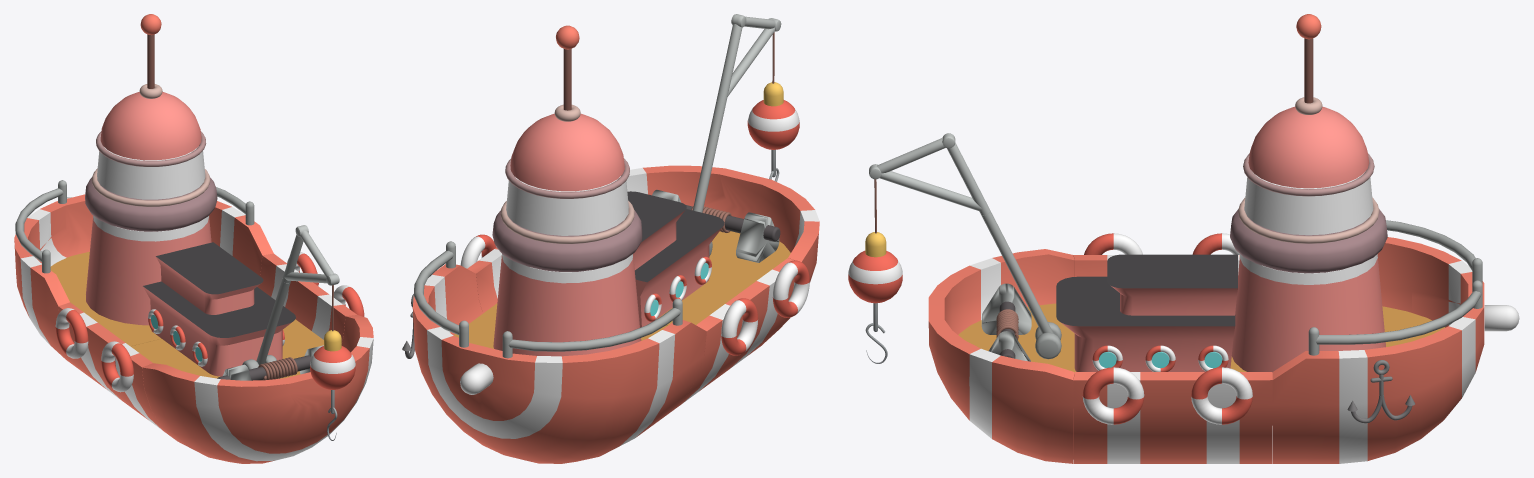
The model's file is Level_P_17.fbx.
3 views of the same model, side by side, from view 1: azimuth 30°, elevation 25°; view 2: azimuth 150°, elevation 25°; view 3: azimuth 270°, elevation 25° (orthographic). The views are drawn at different scales.
Visible parts, largest first — view 1: Cube_17.010, Cube_17.011, Cube_17.023, Cube_17.013, Cube_17.009, Cube_17.015, Cube_17.022, Cube_17.014, Cube_17.024, Cube_17.003, Cube_17.004, Cube_17.008 (+9 smaller); view 2: Cube_17.011, Cube_17.023, Cube_17.010, Cube_17.015, Cube_17.022, Cube_17.009, Cube_17.024, Cube_17.013, Cube_17.004, Cube_17.008, Cube_17.014, Cube_17.002 (+10 smaller); view 3: Cube_17.011, Cube_17.010, Cube_17.009, Cube_17.023, Cube_17.013, Cube_17.015, Cube_17.014, Cube_17.022, Cube_17.024, Cube_17.008, Cube_17.001, Cube_17.002 (+12 smaller).
Part boxes in pixels (box(x1,y1,x2,y2)): Cube_17.010: box(142, 315, 373, 463); Cube_17.011: box(14, 194, 273, 378); Cube_17.023: box(86, 216, 211, 325); Cube_17.013: box(143, 281, 295, 376); Cube_17.009: box(58, 253, 356, 439); Cube_17.015: box(100, 92, 201, 160); Cube_17.022: box(92, 131, 210, 206); Cube_17.014: box(155, 242, 263, 314); Cube_17.024: box(85, 177, 217, 231); Cube_17.003: box(50, 251, 161, 346); Cube_17.004: box(131, 319, 323, 378); Cube_17.008: box(310, 285, 355, 440); Cube_17.011: box(412, 264, 706, 463); Cube_17.023: box(493, 254, 641, 356); Cube_17.010: box(626, 165, 819, 329); Cube_17.015: box(510, 113, 624, 191); Cube_17.022: box(500, 158, 634, 243); Cube_17.009: box(467, 247, 795, 413); Cube_17.024: box(492, 210, 642, 271); Cube_17.013: box(635, 209, 724, 327); Cube_17.004: box(657, 231, 790, 325); Cube_17.008: box(747, 32, 799, 181); Cube_17.014: box(627, 191, 686, 270); Cube_17.002: box(652, 189, 780, 262); Cube_17.011: box(1272, 237, 1484, 463); Cube_17.010: box(928, 249, 1074, 463); Cube_17.009: box(1073, 255, 1272, 463); Cube_17.023: box(1231, 254, 1385, 372); Cube_17.013: box(1056, 276, 1235, 371); Cube_17.015: box(1248, 106, 1369, 188); Cube_17.014: box(1107, 254, 1237, 315); Cube_17.022: box(1238, 153, 1379, 243); Cube_17.024: box(1230, 208, 1387, 273); Cube_17.008: box(848, 179, 902, 363); Cube_17.001: box(869, 133, 990, 215); Cube_17.002: box(981, 283, 1031, 361).
Bounding box in the file's own units: 10.83 × 15.58 × 21.79.
